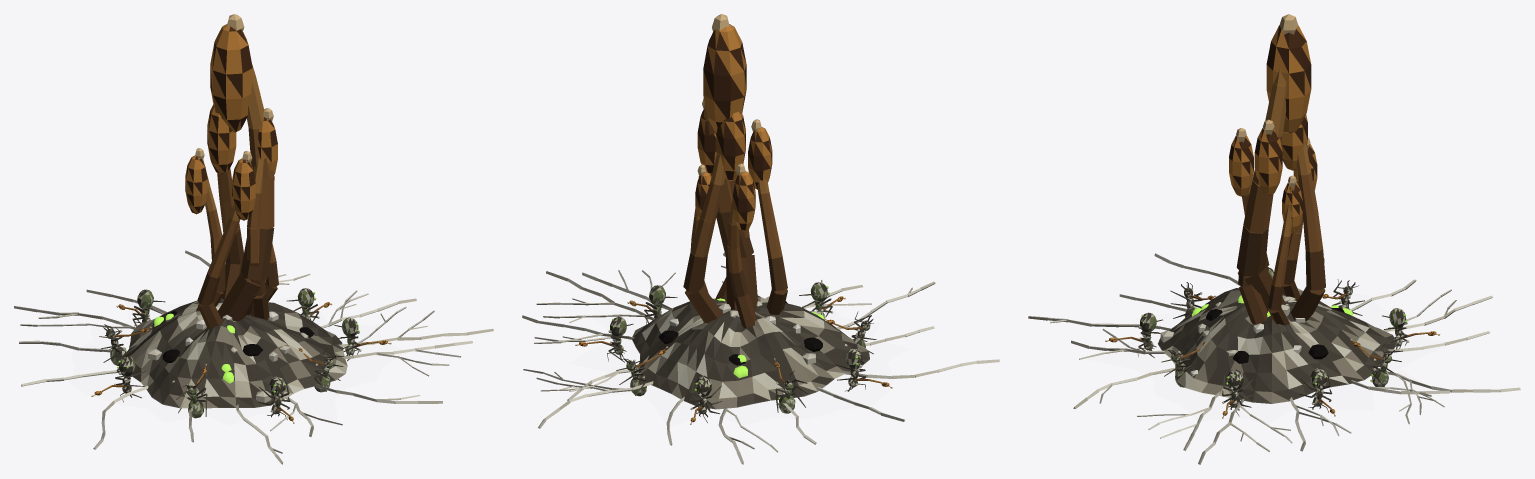
File: wild-bosses-the-cordyceps-colony.glb
3 renders of one model, left to right at view 1: azimuth 30°, elevation 25°; view 2: azimuth 150°, elevation 25°; view 3: azimuth 270°, elevation 25°, orthographic. The views are drawn at different scales.
Bounding box in the file's own units: 277 × 219 × 275.
